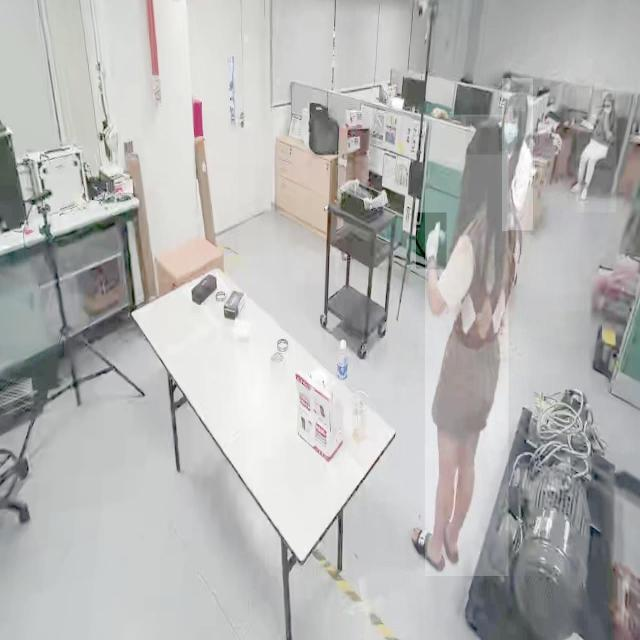face_mask: (498, 109, 522, 151)
hand_glove: (416, 212, 446, 270)
head_nohelmet: (466, 116, 504, 156), (504, 92, 526, 112), (603, 92, 615, 100)
person: (425, 115, 509, 577), (577, 88, 617, 213), (502, 78, 534, 231)
